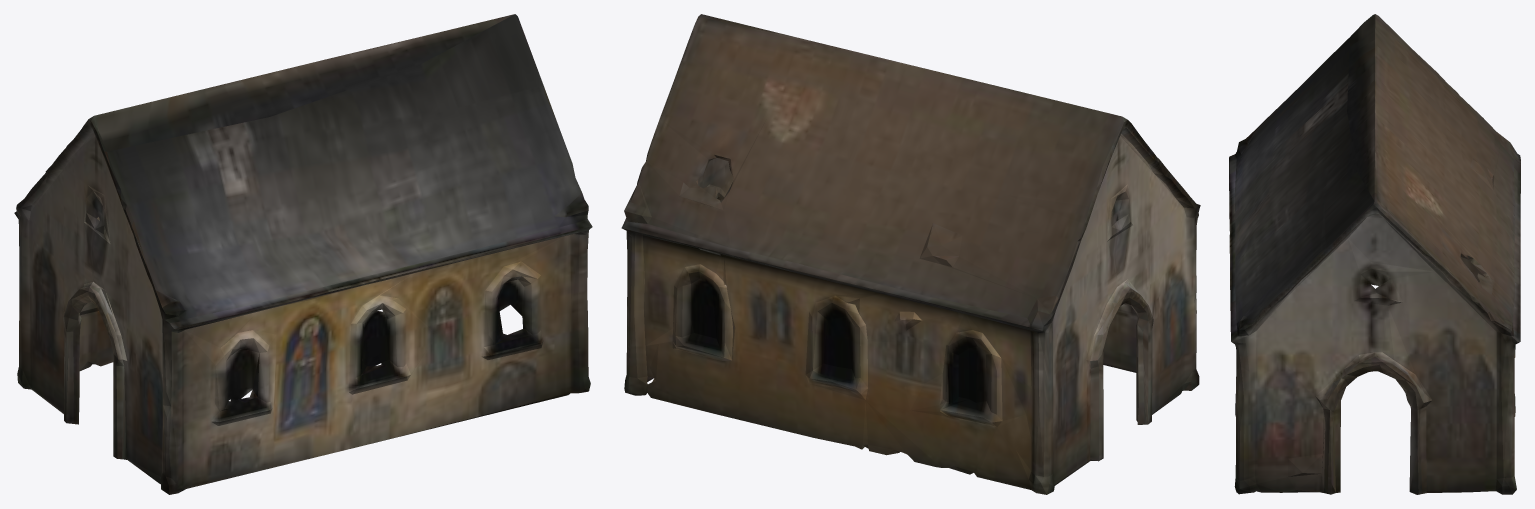
The model's file is church_dark_small_lod1.glb.
3 renders of one model, left to right at view 1: azimuth 30°, elevation 25°; view 2: azimuth 150°, elevation 25°; view 3: azimuth 270°, elevation 25°, orthographic. The views are drawn at different scales.
Parts seen in each view (by area): view 1: church_dark_small_lod1; view 2: church_dark_small_lod1; view 3: church_dark_small_lod1.
Part boxes in pixels (<box>): church_dark_small_lod1: <box>14,14,592,494</box>; church_dark_small_lod1: <box>621,14,1200,494</box>; church_dark_small_lod1: <box>1229,14,1520,494</box>.
Size of the model in its own units: 11.97 by 8.68 by 7.75.
1 material, 1 textured.
